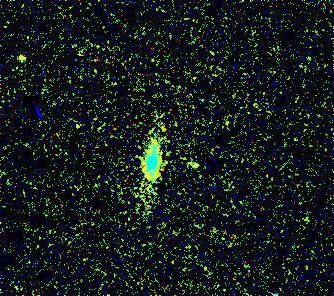star: (4, 42, 34, 72)
